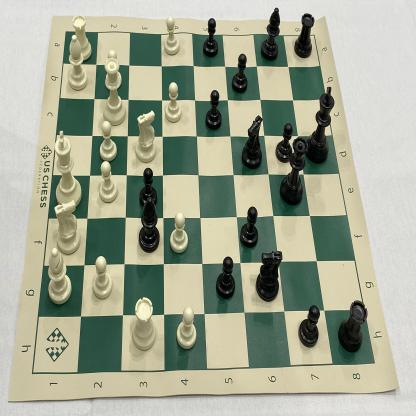black-bishop: (136, 195, 162, 255), (260, 4, 282, 62)
black-king: (306, 84, 336, 164)
black-knight: (255, 247, 282, 303), (240, 113, 264, 172)
black-pawn: (236, 203, 261, 251), (295, 303, 320, 350), (216, 253, 236, 301), (201, 16, 221, 60), (205, 87, 224, 133), (138, 166, 157, 210), (275, 122, 293, 166), (231, 52, 249, 96)
black-queen: (279, 138, 307, 212)
black-rook: (336, 298, 368, 353), (293, 11, 317, 60)
white-bishop: (45, 247, 74, 305), (66, 35, 89, 92)
white-king: (52, 129, 82, 209)
white-knight: (52, 200, 83, 255), (134, 110, 158, 164)
white-pawn: (173, 305, 197, 354), (91, 254, 114, 302), (97, 158, 119, 205), (164, 79, 184, 125), (99, 119, 119, 164), (170, 209, 189, 256), (161, 14, 181, 57), (104, 49, 124, 90)
white-queen: (100, 57, 128, 127)
white-rook: (130, 294, 157, 354), (71, 13, 92, 62)
